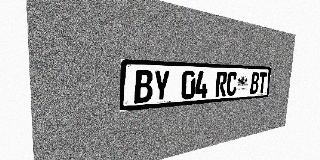0: (181, 71, 196, 100)
4: (195, 71, 209, 98)
B: (134, 70, 153, 103), (250, 72, 259, 94)
C: (226, 72, 237, 96)
R: (215, 71, 227, 97)
T: (258, 72, 267, 93)
Y: (153, 70, 170, 102)
